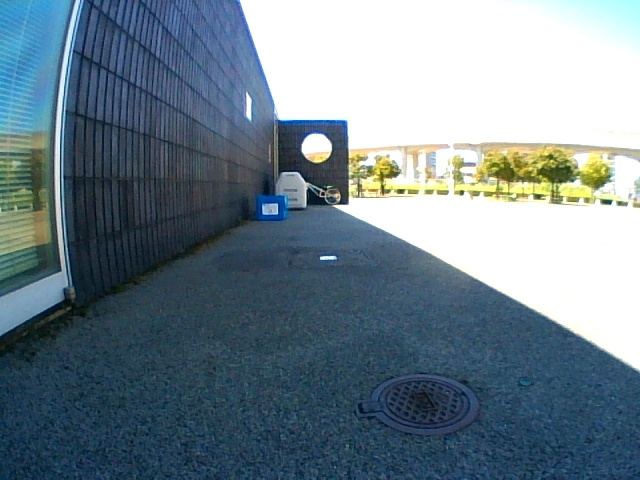blue_box: (258, 195, 286, 220)
tag: (263, 204, 279, 214)
